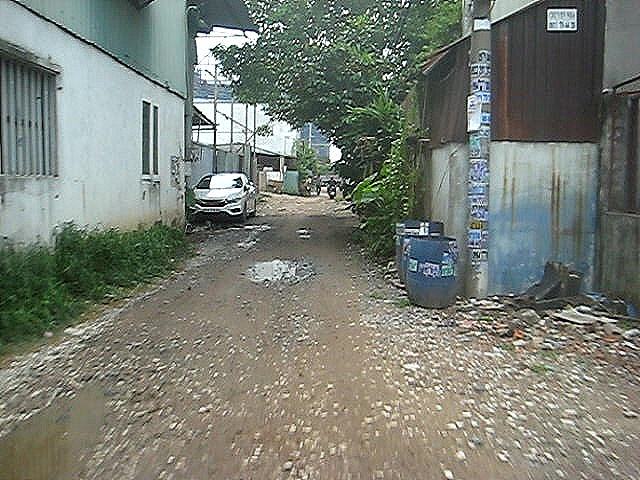hole: (1, 357, 141, 480), (241, 254, 317, 288), (216, 222, 274, 234), (235, 236, 262, 249), (295, 226, 311, 233), (298, 233, 312, 240)
